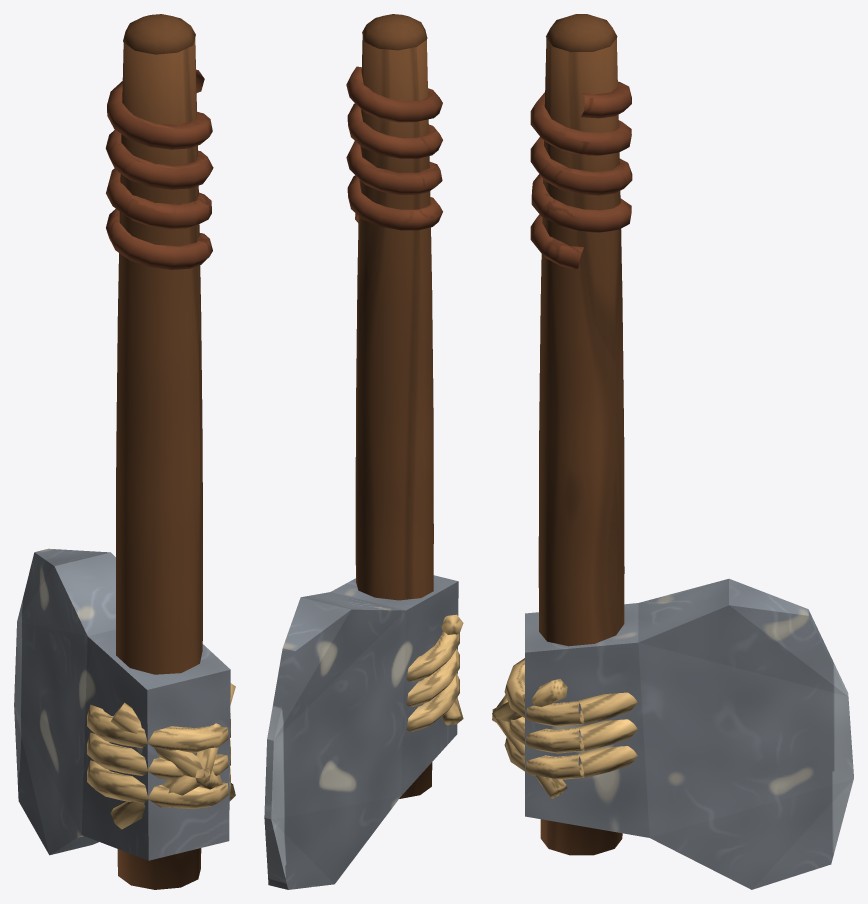
File: tool_stone_axe.glb
3 views of the same model, side by side, from view 1: azimuth 30°, elevation 25°; view 2: azimuth 150°, elevation 25°; view 3: azimuth 270°, elevation 25° (orthographic). The views are drawn at different scales.
Visible parts, largest first — view 1: Tool; view 2: Tool; view 3: Tool.
Boxes of the visible parts, left/top/right/bottom form: Tool: left=14, top=14, right=235, bottom=889; Tool: left=264, top=14, right=463, bottom=889; Tool: left=492, top=14, right=853, bottom=889.
Size of the model in its own units: 0.1217 by 0.8374 by 0.3189.
1 material, 1 textured.
